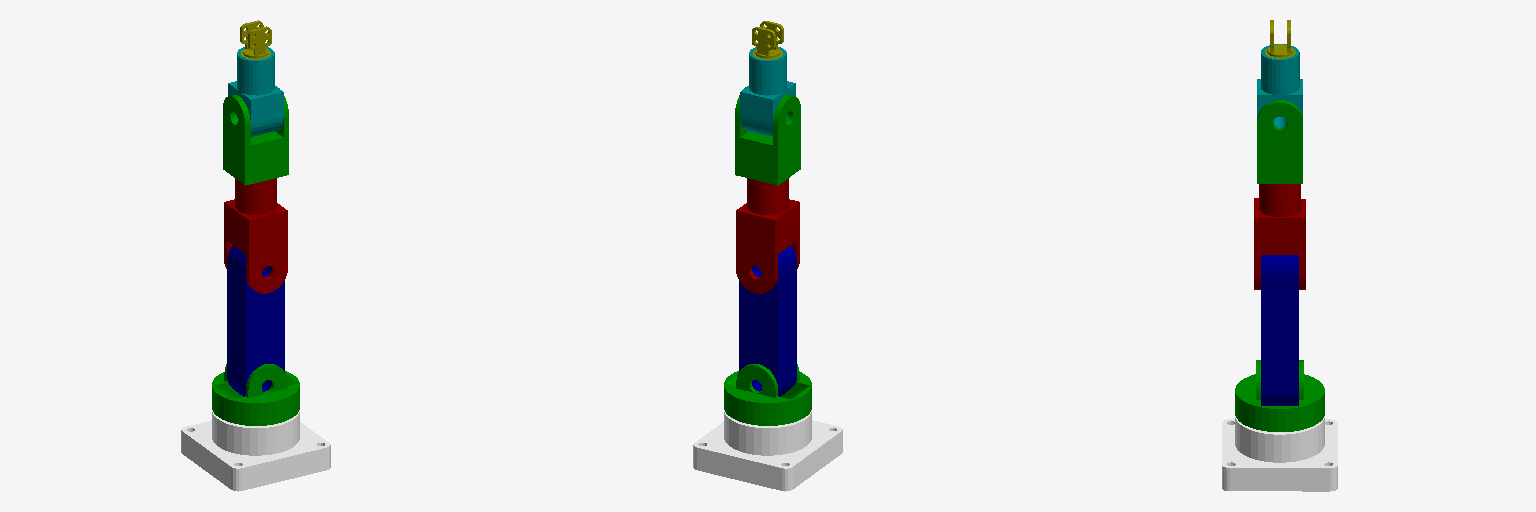
robot.urdf — robot_arm_urdf:
<robot
  name="robot_arm_urdf">
  <link
    name="base_link">    
    <visual>
      <origin
        xyz="0 0 0"
        rpy="1.57 0 0" />
      <geometry>
        <mesh
          filename="package://robot_arm_urdf/meshes/base.stl" />
      </geometry>
      <material
        name="">
        <color
          rgba="1 1 1 1" />
      </material>
    </visual>
    <collision>
      <origin
        xyz="0 0 0"
        rpy="0 0 0" />
      <geometry>
        <mesh
          filename="package://robot_arm_urdf/meshes/base.stl" />
      </geometry>
    </collision>
  </link>
  <link
    name="art_1">
    <visual>
      <origin
        xyz="0 0 0"
        rpy="1.57 0 0" />
      <geometry>
        <mesh
          filename="package://robot_arm_urdf/meshes/art_1.stl" />
      </geometry>
      <material
        name="">
        <color
          rgba="0 0.6 0 1" />
      </material>
    </visual>
    <collision>
      <origin
        xyz="0 0 0"
        rpy="0 0 0" />
      <geometry>
        <mesh
          filename="package://robot_arm_urdf/meshes/art_1.stl" />
      </geometry>
    </collision>
  </link>  
  <joint
    name="art_1"
    type="continuous">
    <origin
      xyz="0 0 0.23"
      rpy="0 0 0" />
    <parent
      link="base_link" />
    <child
      link="art_1" />
    <axis
      xyz="0 1 0" />
  </joint>  
  <link
    name="art_2">
    <visual>
      <origin
        xyz="0 0 -0.075"
        rpy="1.57 0 0" />
      <geometry>
        <mesh
          filename="package://robot_arm_urdf/meshes/art_2.stl" />
      </geometry>
      <material
        name="">
        <color
          rgba="0 0 0.6 1" />
      </material>
    </visual>
    <collision>
      <origin
        xyz="0 0 0"
        rpy="0 0 0" />
      <geometry>
        <mesh
          filename="package://robot_arm_urdf/meshes/art_2.stl" />
      </geometry>
    </collision>
  </link>
  <joint
    name="art_2"
    type="revolute">
    <origin
      xyz="0 0 0.13"
      rpy="1.57 0 0" />
    <limit effort="1000.0" lower="0.0" upper="0.548" velocity="0.5"/>
    <parent
      link="art_1" />
    <child
      link="art_2" />
    <axis
      xyz="0 0 1" />
  </joint>
  <link
    name="art_3">
    <visual>
      <origin
        xyz="0 0 -0.1"
        rpy="1.57 0 0" />
      <geometry>
        <mesh
          filename="package://robot_arm_urdf/meshes/art_3.stl" />
      </geometry>
      <material
        name="">
        <color
          rgba="0.6 0 0 1" />
      </material>
    </visual>
    <collision>
      <origin
        xyz="0 0 0"
        rpy="0 0 0" />
      <geometry>
        <mesh
          filename="package://robot_arm_urdf/meshes/art_3.stl" />
      </geometry>
    </collision>
  </link>
  <joint
    name="art_3"
    type="revolute">
    <origin
      xyz="0 0.5 0"
      rpy="0 0 0" />
    <limit effort="1000.0" lower="0.0" upper="0.548" velocity="0.5"/>
    <parent
      link="art_2" />
    <child
      link="art_3" />
    <axis
      xyz="0 1 0" />
  </joint>
  <link
    name="art_4">
    <visual>
      <origin
        xyz="0 0 0"
        rpy="0 0 0" />
      <geometry>
        <mesh
          filename="package://robot_arm_urdf/meshes/art_4.stl" />
      </geometry>
      <material
        name="">
        <color
          rgba="0 0.6 0 1" />
      </material>
    </visual>
    <collision>
      <origin
        xyz="0 0 0"
        rpy="0 0 0" />
      <geometry>
        <mesh
          filename="package://robot_arm_urdf/meshes/art_4.stl" />
      </geometry>
    </collision>
  </link>
  <joint
    name="art_4"
    type="revolute">
    <origin
      xyz="0 0.3 0"
      rpy="0 0 0" />
    <limit effort="1000.0" lower="0.0" upper="0.548" velocity="0.5"/>
    <parent
      link="art_3" />
    <child
      link="art_4" />
    <axis
      xyz="0 1 0" />
  </joint>
  <link
    name="art_5">
    <visual>
      <origin
        xyz="-0.075 0 0"
        rpy="1.57 1.57 0" />
      <geometry>
        <mesh
          filename="package://robot_arm_urdf/meshes/art_5.stl" />
      </geometry>
      <material
        name="">
        <color
          rgba="0 0.6 0.6 1" />
      </material>
    </visual>
    <collision>
      <origin
        xyz="0 0 0"
        rpy="0 0 0" />
      <geometry>
        <mesh
          filename="package://robot_arm_urdf/meshes/art_5.stl" />
      </geometry>
    </collision>
  </link>
  <joint
    name="art_5"
    type="revolute">
    <origin
      xyz="0 0.36 0"
      rpy="0 0 0" />
    <limit effort="1000.0" lower="0.0" upper="0.548" velocity="0.5"/>
    <parent
      link="art_4" />
    <child
      link="art_5" />
    <axis
      xyz="0 1 0" />
  </joint>
  <link
    name="art_6">
    <visual>
      <origin
        xyz="0 0 0"
        rpy="0 0 0" />
      <geometry>
        <mesh
          filename="package://robot_arm_urdf/meshes/art_6.stl" />
      </geometry>
      <material
        name="">
        <color
          rgba="0.6 0.6 0 1" />
      </material>
    </visual>
    <collision>
      <origin
        xyz="0 0 0"
        rpy="0 0 0" />
      <geometry>
        <mesh
          filename="package://robot_arm_urdf/meshes/art_6.stl" />
      </geometry>
    </collision>
  </link>
  <joint
    name="art_6"
    type="revolute">
    <origin
      xyz="0 0.18 0"
      rpy="0 0 0" />
    <limit effort="1000.0" lower="0.0" upper="0.548" velocity="0.5"/>
    <parent
      link="art_5" />
    <child
      link="art_6" />
    <axis
      xyz="0 1 0" />
  </joint>
</robot>

--- What the picture shows (computed from the rendered views, not written in the file) ---
3 views of the same robot in one strip: view 1: azimuth 30°, elevation 25°; view 2: azimuth 150°, elevation 25°; view 3: azimuth 270°, elevation 25° (orthographic).
Model robot_arm_urdf with 7 links and 6 joints (5 revolute, 1 continuous), rooted at base_link, posed every joint at zero.
Visible links, largest first — view 1: base_link, art_2, art_3, art_4, art_1, art_5, art_6; view 2: base_link, art_2, art_3, art_4, art_1, art_5, art_6; view 3: base_link, art_2, art_3, art_1, art_4, art_5, art_6.
Boxes of the visible links, x1,y1,x2,y2 form: base_link: [181, 410, 330, 491]; art_2: [227, 246, 284, 396]; art_3: [224, 178, 287, 293]; art_4: [223, 86, 288, 185]; art_1: [212, 364, 299, 425]; art_5: [228, 47, 283, 136]; art_6: [240, 20, 271, 59]; base_link: [693, 410, 842, 491]; art_2: [739, 246, 796, 396]; art_3: [736, 178, 799, 293]; art_4: [735, 87, 800, 185]; art_1: [724, 364, 811, 425]; art_5: [740, 47, 795, 136]; art_6: [752, 21, 783, 59]; base_link: [1222, 416, 1337, 491]; art_2: [1261, 255, 1298, 405]; art_3: [1254, 184, 1305, 289]; art_1: [1235, 360, 1324, 431]; art_4: [1257, 100, 1302, 183]; art_5: [1257, 44, 1302, 127]; art_6: [1265, 20, 1295, 58].
Size in the robot's own frame: 0.45 by 0.4501 by 1.9 metres.
7 mesh visuals loaded from 7 distinct referenced files (7 binary STL).